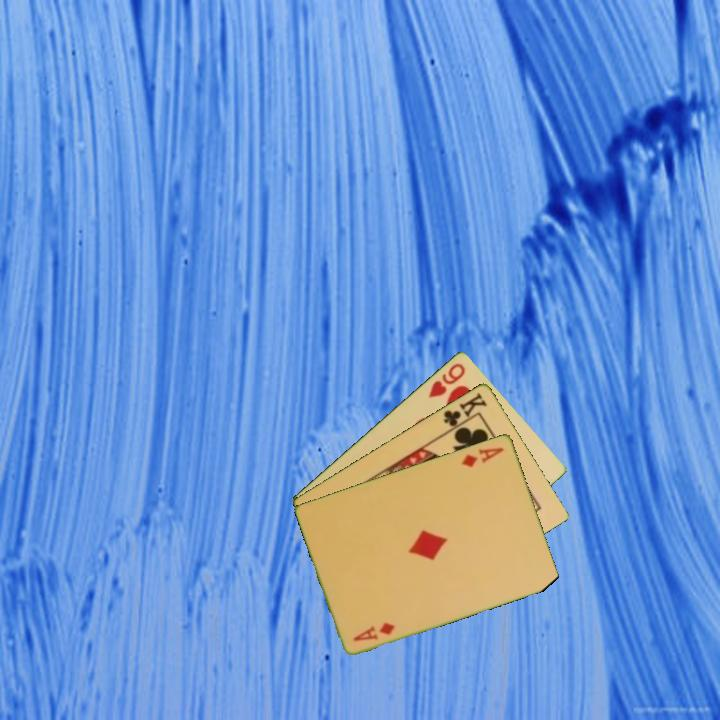9h: (425, 359, 468, 401)
Ad: (458, 443, 507, 470), (349, 618, 398, 644)
Kc: (440, 388, 490, 434)
